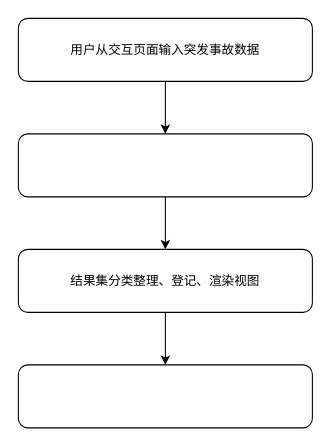
This 331x446 diagram has some shape labels left out. Here are the shapes that lost their labels. From the top down, the centre of each, then its label:
At [164,165]: "河道突发性污染事故预测模型计算".
At [164,396]: "返回数据至交互页面展示".
